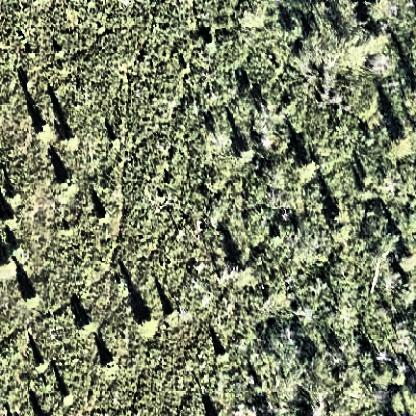tree-top: (389, 126, 413, 152), (134, 312, 160, 335), (54, 170, 79, 193), (233, 142, 255, 164), (75, 315, 98, 336), (59, 128, 82, 149), (98, 355, 119, 376), (23, 288, 43, 308), (214, 348, 232, 366), (329, 210, 345, 230), (33, 355, 50, 370), (39, 122, 52, 140), (166, 309, 180, 325)
